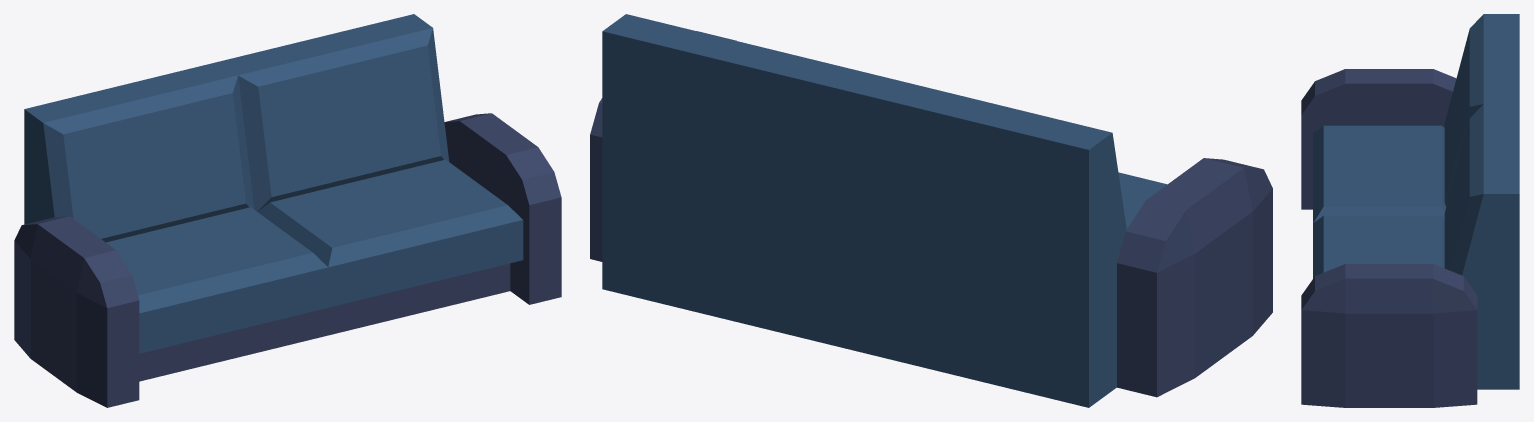
Rendered from g_o_Sofa2.fbx.
3 renders of one model, left to right at view 1: azimuth 30°, elevation 25°; view 2: azimuth 150°, elevation 25°; view 3: azimuth 270°, elevation 25°, orthographic. The views are drawn at different scales.
Visible parts, largest first — view 1: g_o_2SeatSofa; view 2: g_o_2SeatSofa; view 3: g_o_2SeatSofa.
Part boxes in pixels (x1,y1,x2,y2): g_o_2SeatSofa: (14,14,561,407); g_o_2SeatSofa: (590,14,1272,407); g_o_2SeatSofa: (1301,14,1519,407).
Size of the model in its own units: 178 by 75.25 by 75.97.
